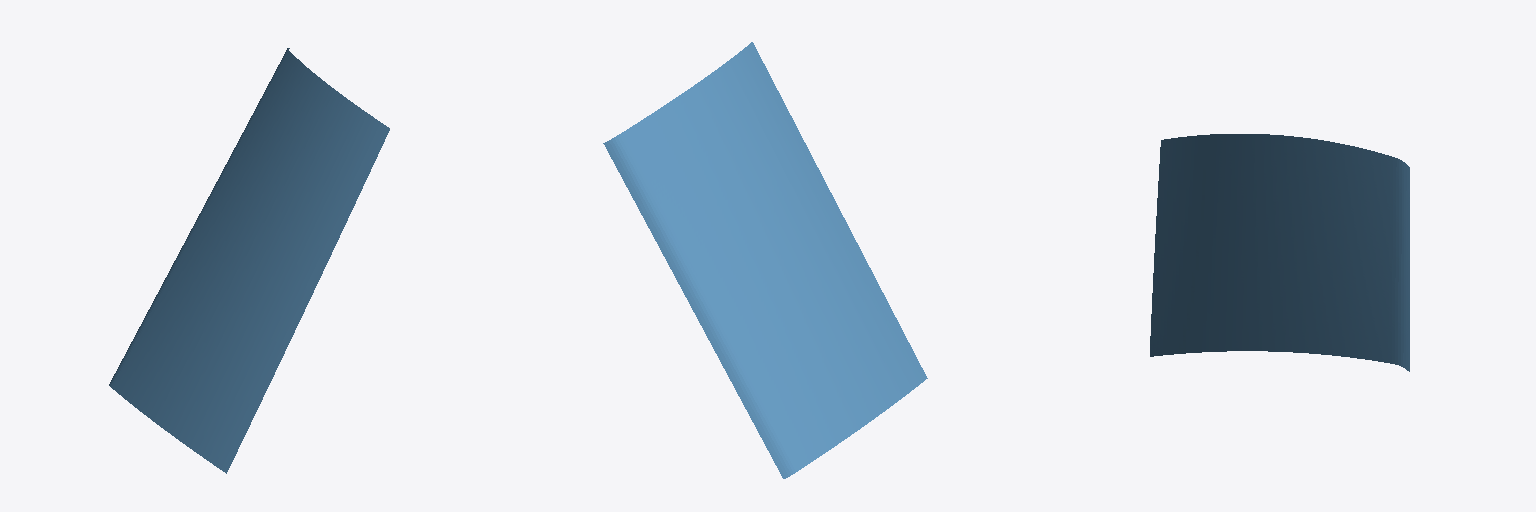
File: Page_3-4_Plane_003.obj
The picture shows the model from 3 angles: view 1: azimuth 30°, elevation 25°; view 2: azimuth 150°, elevation 25°; view 3: azimuth 270°, elevation 25°; orthographic projection.
Visible parts, largest first — view 1: Page_3-4_Plane.003; view 2: Page_3-4_Plane.003; view 3: Page_3-4_Plane.003.
Boxes of the visible parts, x1,y1,x2,y2 form: Page_3-4_Plane.003: [109, 48, 389, 473]; Page_3-4_Plane.003: [603, 42, 927, 478]; Page_3-4_Plane.003: [1150, 134, 1409, 371].
Size of the model in its own units: 2.43 by 3.66 by 2.76.